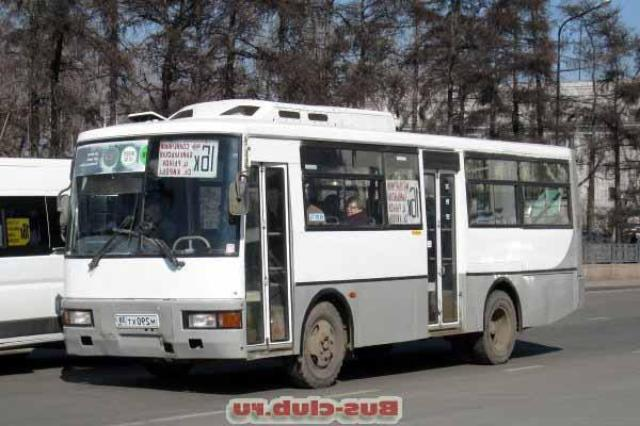bus: (52, 95, 586, 384)
